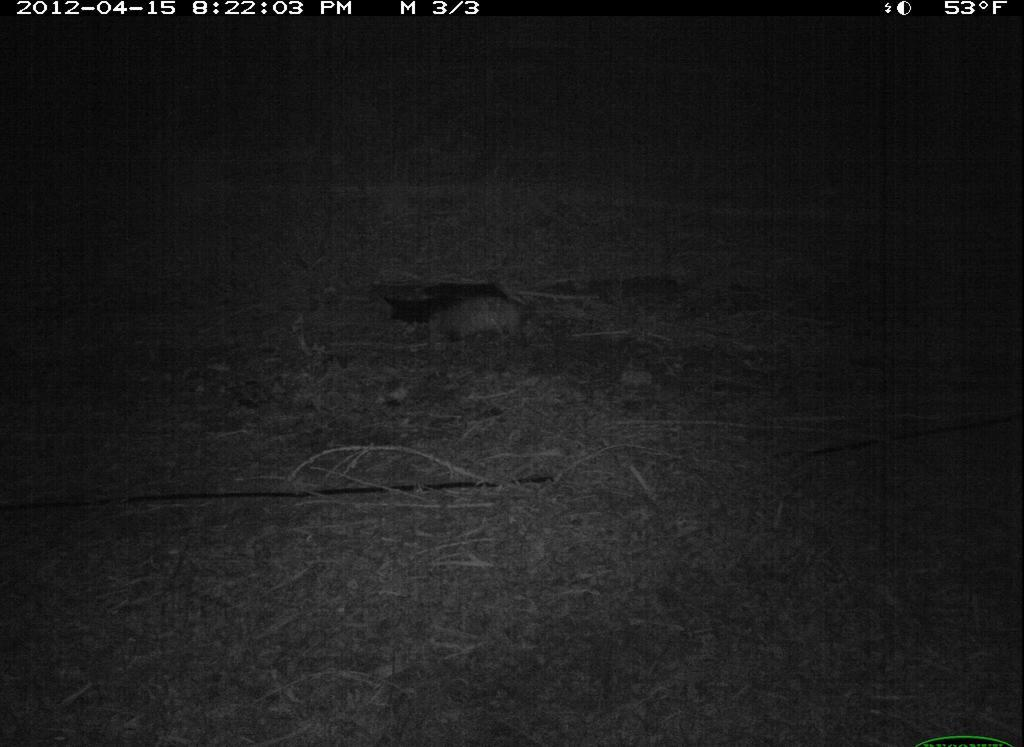opossum: (391, 286, 584, 369)
